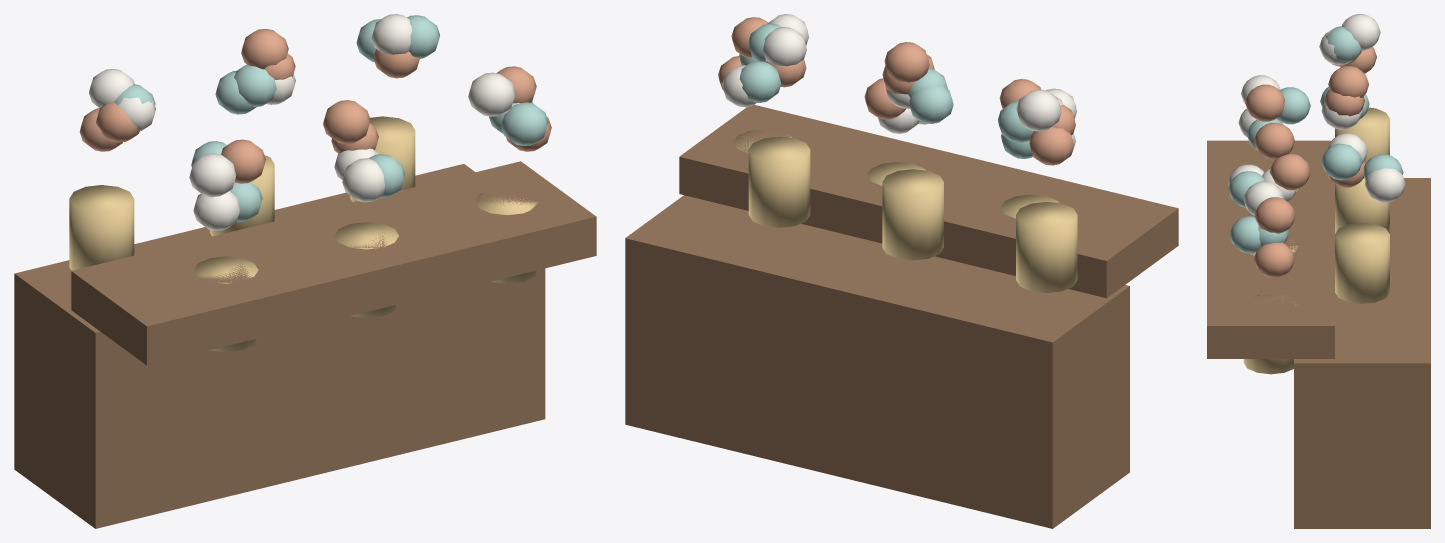
Rendered from flower_stand.glb.
3 views of the same model, side by side, from view 1: azimuth 30°, elevation 25°; view 2: azimuth 150°, elevation 25°; view 3: azimuth 270°, elevation 25° (orthographic). The views are drawn at different scales.
Parts seen in each view (by area): view 1: flower_stand; view 2: flower_stand; view 3: flower_stand.
Boxes of the visible parts, <box> form: flower_stand: <box>14,14,596,528</box>; flower_stand: <box>625,14,1178,528</box>; flower_stand: <box>1207,14,1430,528</box>.
Bounding box in the file's own units: 0.96 × 0.8664 × 0.49.
